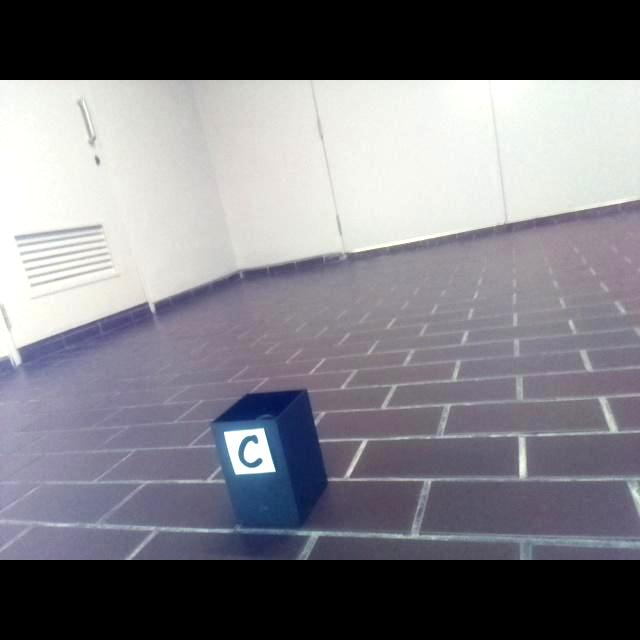C: (238, 435, 263, 469)
